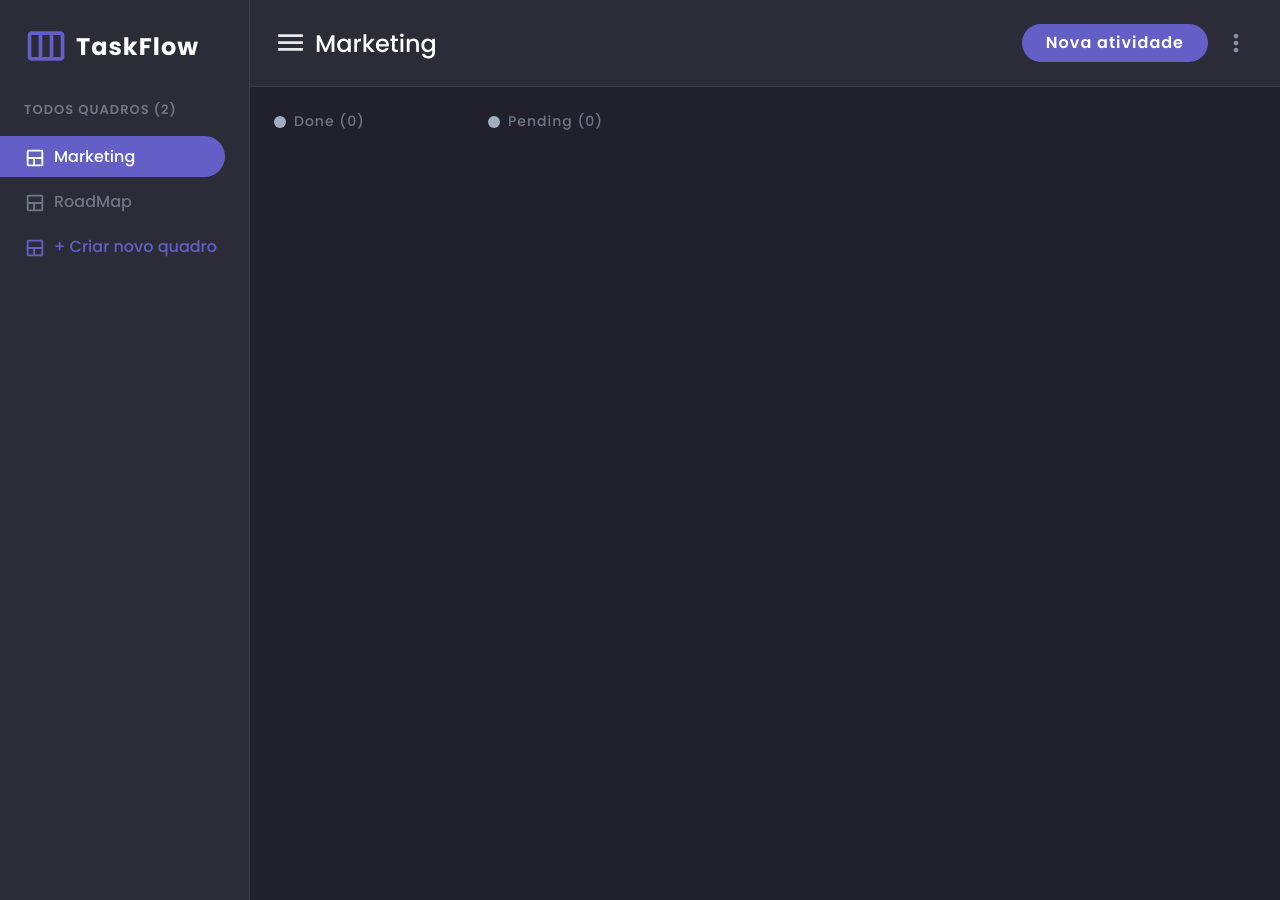
Test: <App /> › should select a board in the sidebar and display it in the navbar
The image size is (1280, 900).
expect the number of list items is 3: met, box top-left (24, 145), bottom-right (135, 169); top-left (24, 190), bottom-right (132, 214); top-left (24, 235), bottom-right (217, 259)
# select board
Click the text "RoadMap": click(93, 202) top-left (54, 189), bottom-right (132, 214)
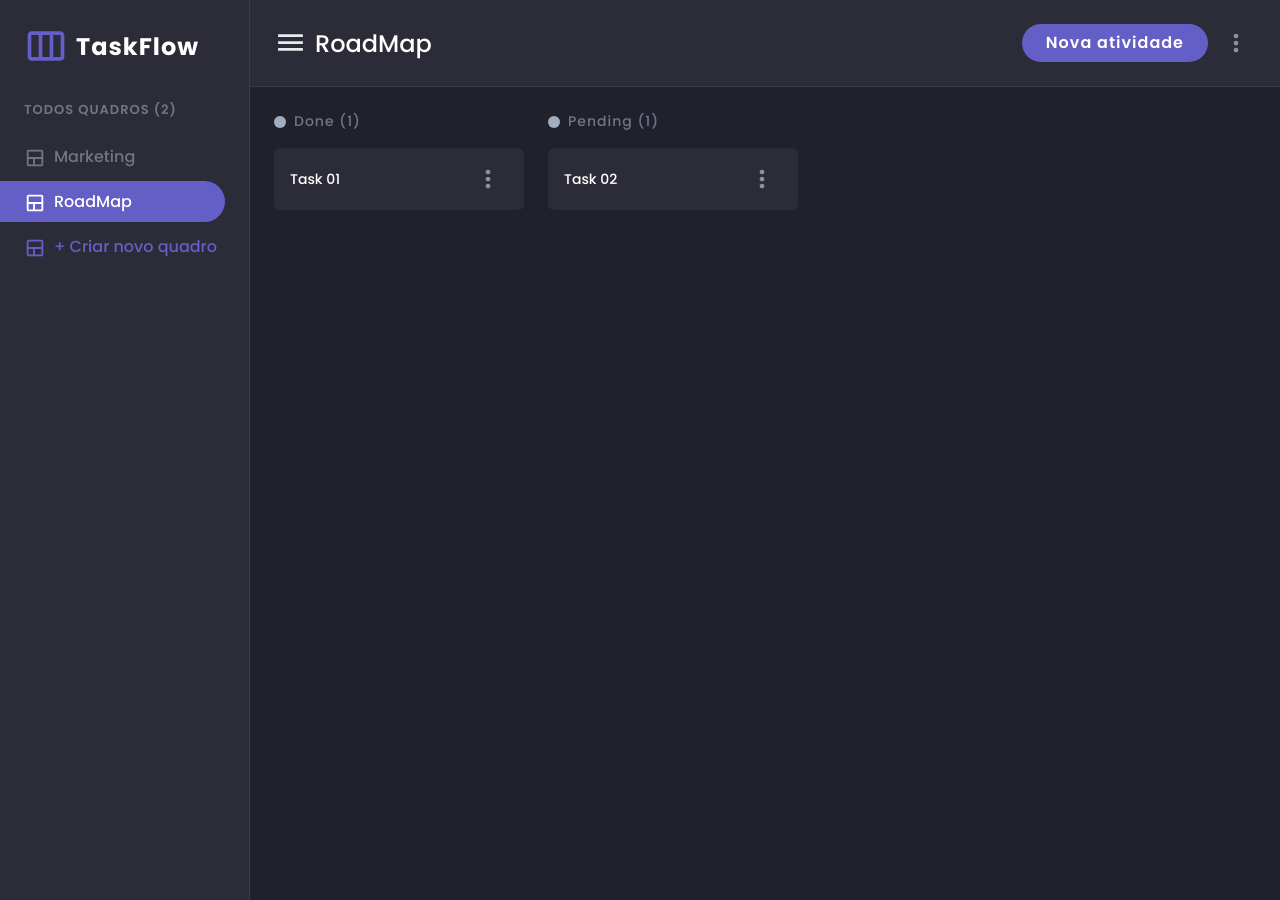
expect the 1st text "RoadMap" is shown: met, box top-left (315, 26), bottom-right (432, 61)
